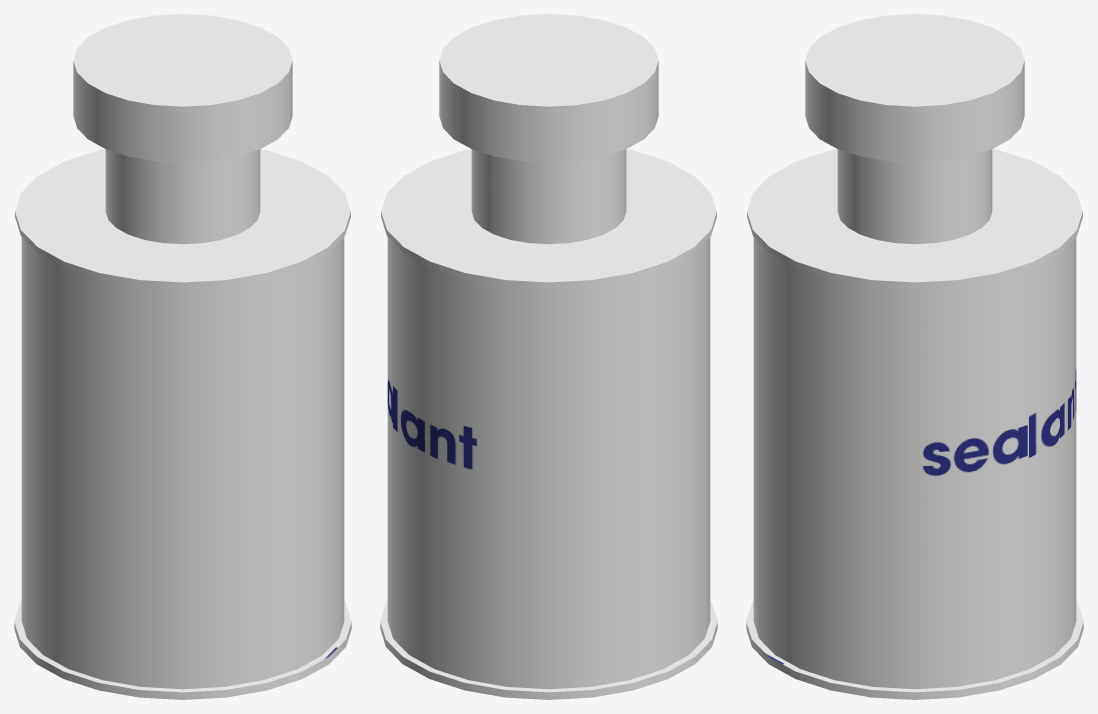
File: sealant.fbx
3 renders of one model, left to right at view 1: azimuth 30°, elevation 25°; view 2: azimuth 150°, elevation 25°; view 3: azimuth 270°, elevation 25°, orthographic.
Parts seen in each view (by area): view 1: sealant f; view 2: sealant f; view 3: sealant f.
Boxes of the visible parts, left/top/right/bottom form: sealant f: left=14, top=14, right=351, bottom=699; sealant f: left=380, top=14, right=717, bottom=699; sealant f: left=746, top=14, right=1083, bottom=699.
Size of the model in its own units: 254 by 472 by 254.
1 material, 1 textured.
